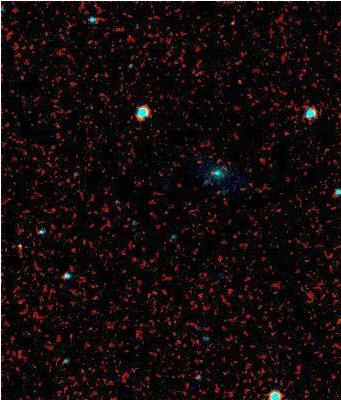star: (4, 230, 34, 260)
